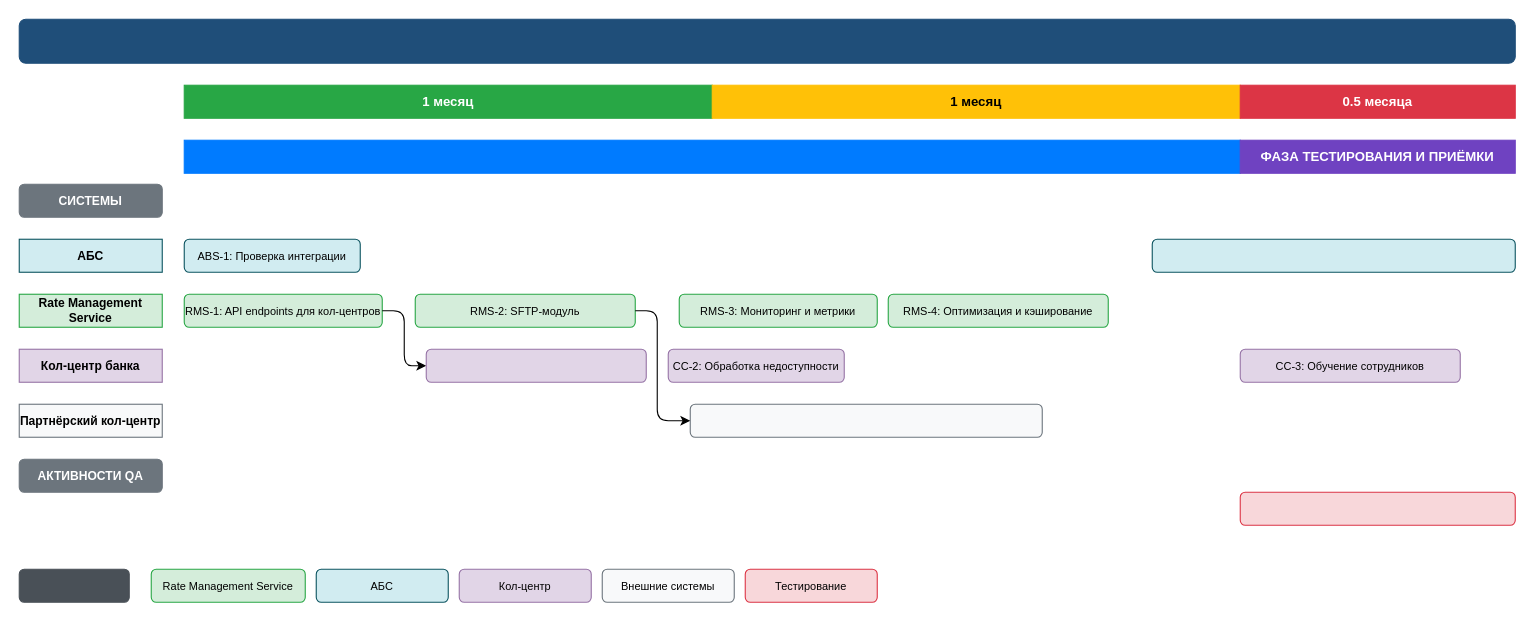
Some shapes in this 1535 by 622 pixel diagram are drawn without their labels. The centre of each missing label's shape, as x and y in pixels:
"ABS-2: Мониторинг нагрузки" goes at [1333,255].
"CC-1: Интеграция с RMS" goes at [535,365].
"PCC-1: Интеграция с SFTP-модулем RMS" goes at [865,420].
"QA-1: Комплексное тестирование" goes at [1377,508].
"RoadMap MVP - Интеграция кол-центров" goes at [766,40].
"ЛЕГЕНДА" goes at [73,585].
"ФАЗА РАЗРАБОТКИ" goes at [711,156].
